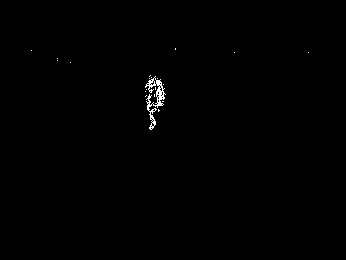person: (141, 72, 166, 133)
